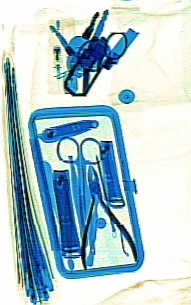lighter: (44, 16, 79, 95)
scissors: (55, 135, 101, 240)
